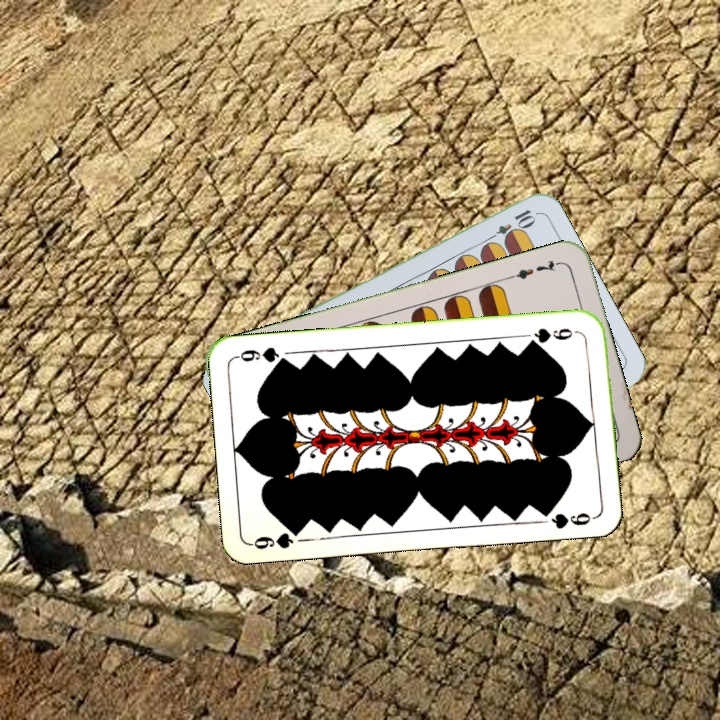E10: (482, 205, 537, 246)
E7: (506, 256, 564, 282)
G9: (247, 524, 306, 552), (524, 324, 581, 347)
